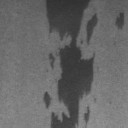red iron: (45, 0, 96, 128), (86, 13, 98, 45), (115, 12, 125, 30), (44, 92, 51, 109), (84, 106, 90, 124), (80, 40, 84, 44)
